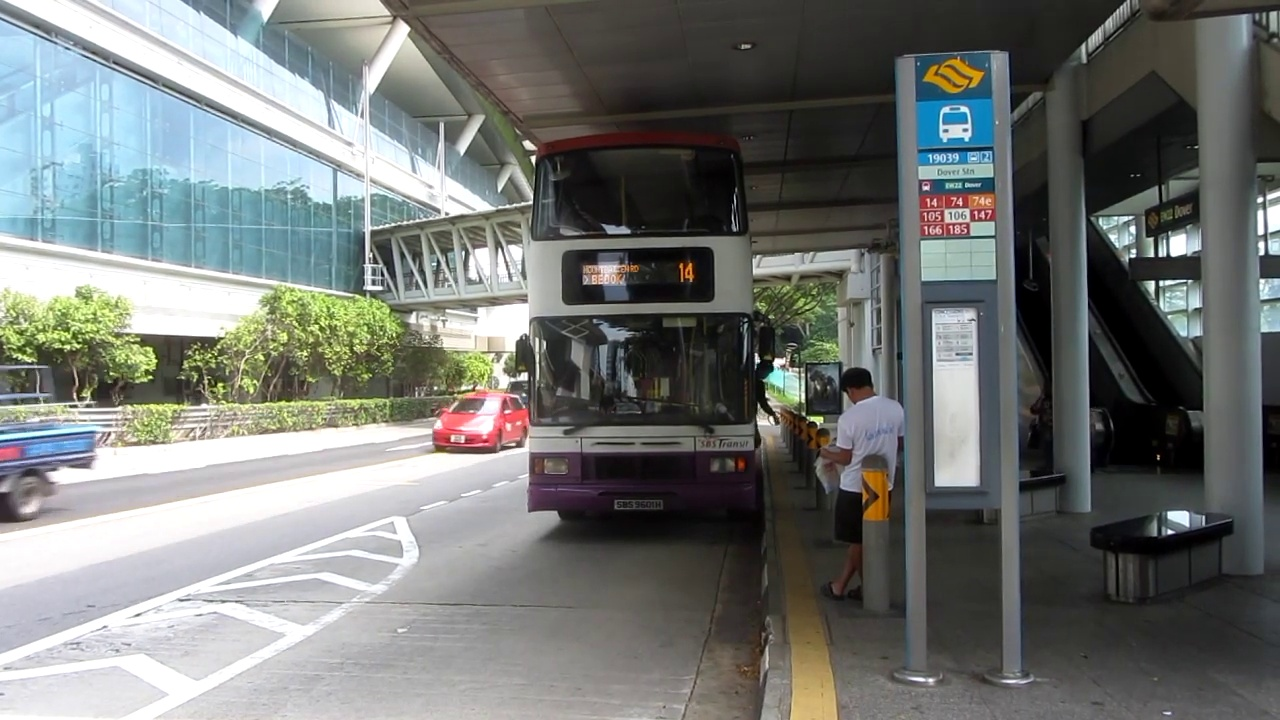bus panel: (575, 257, 701, 291)
